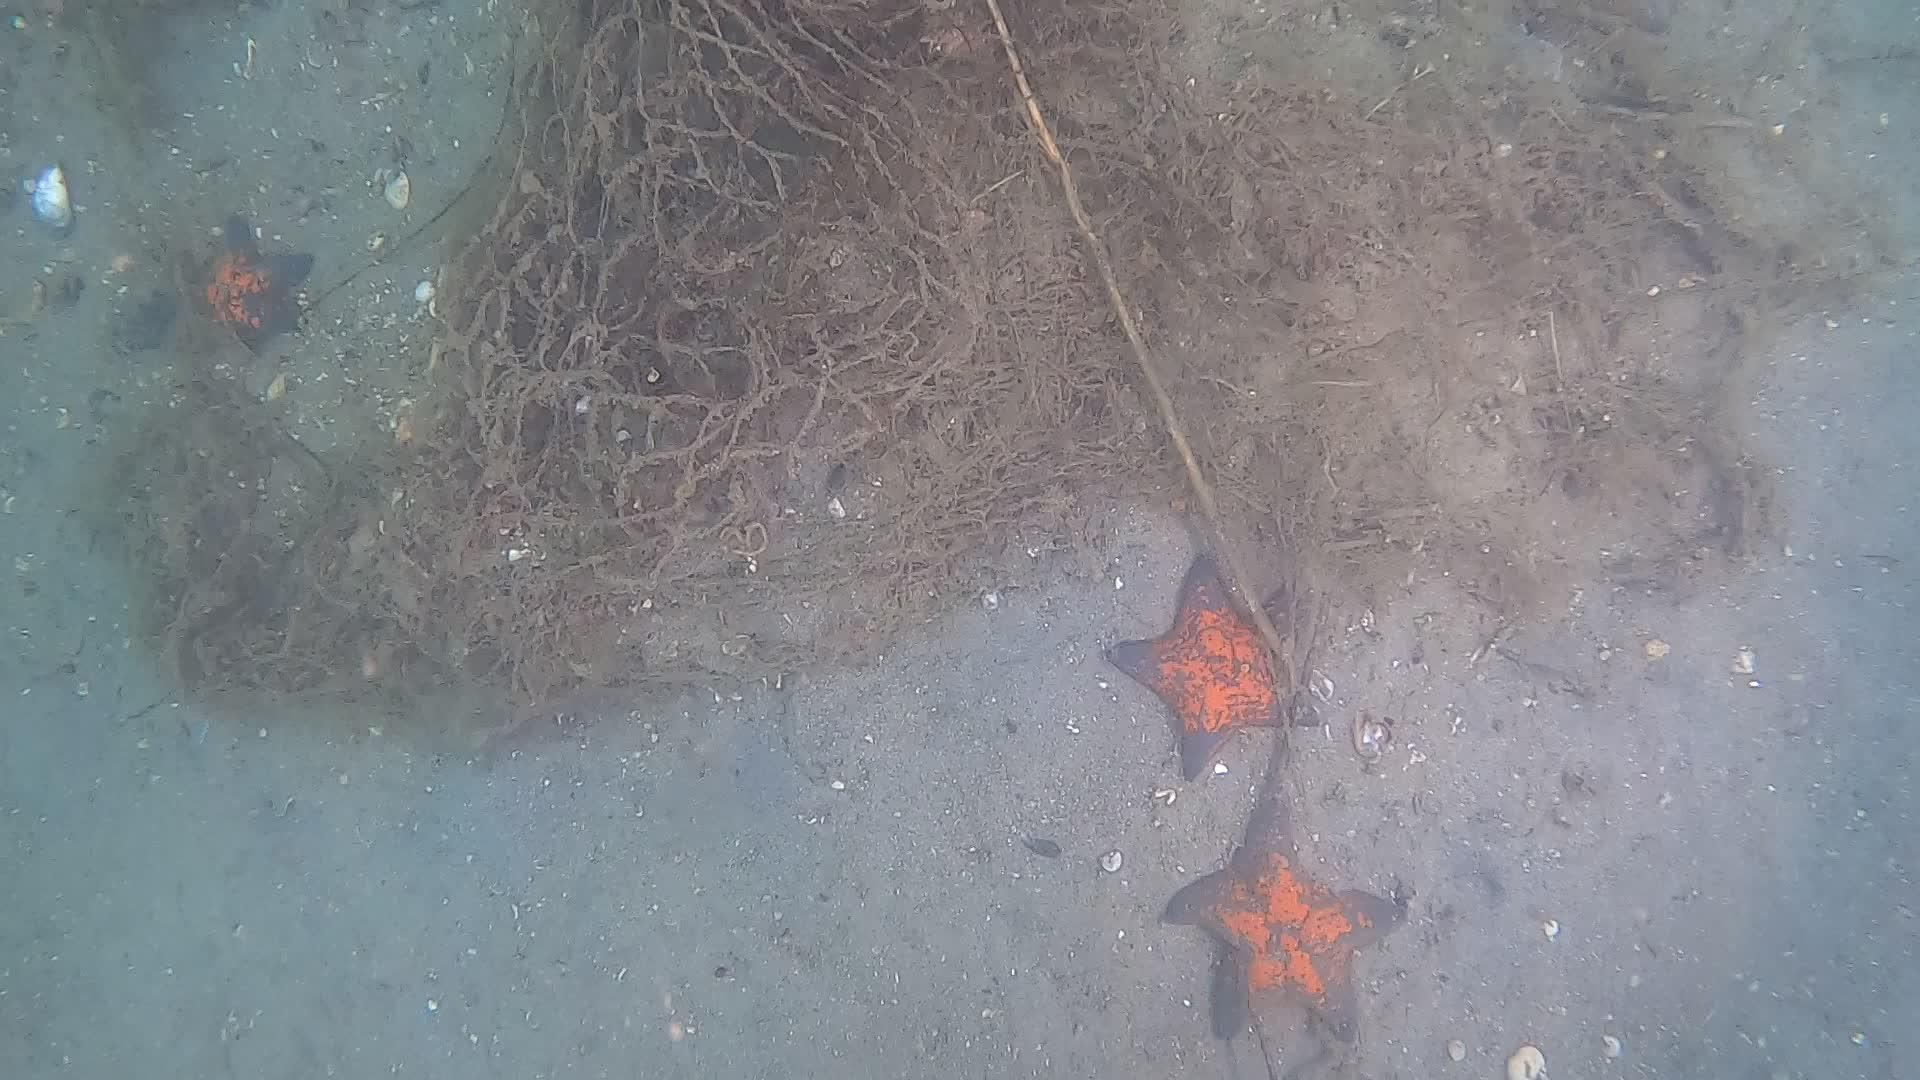fish net: (633, 0, 829, 214)
